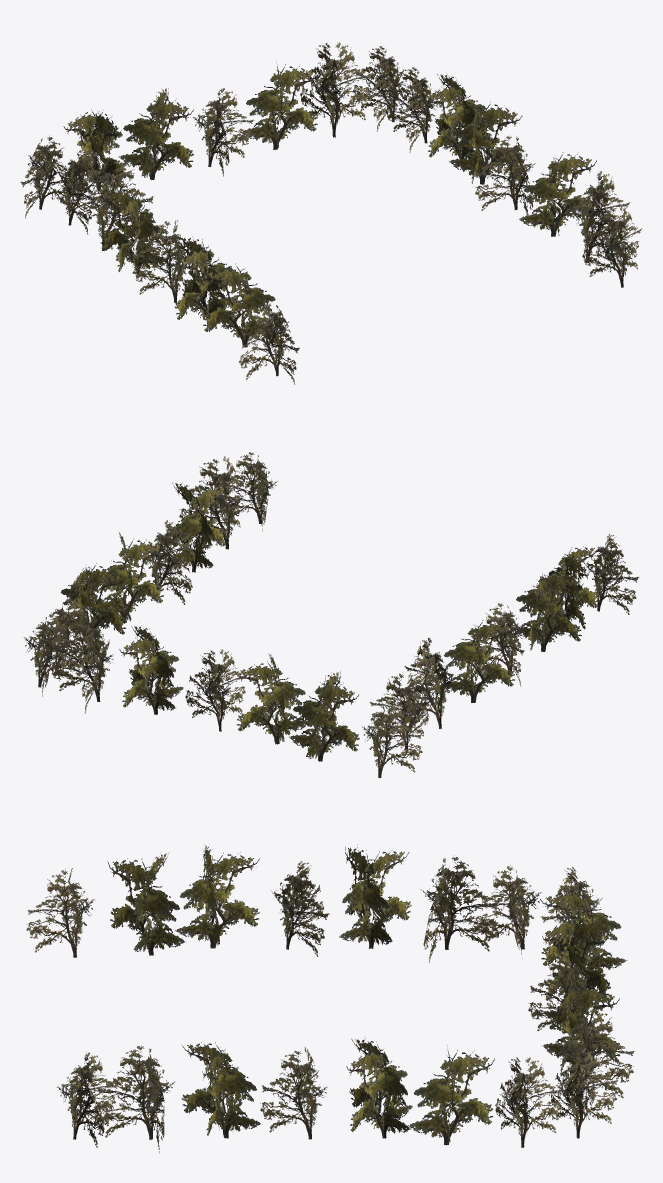
File: bushes3.glb
The picture shows the model from 3 angles, top to bottom: view 1: azimuth 30°, elevation 25°; view 2: azimuth 150°, elevation 25°; view 3: azimuth 270°, elevation 25°; orthographic projection. The views are drawn at different scales.
Visible parts, largest first — view 1: Trees_004_Tree_01_0, Trees_004_Tree_0, Trees_Tree_0, Trees_002_Tree_01_0, Trees_002_Tree_0, Trees_Tree_01_0; view 2: Trees_004_Tree_0, Trees_004_Tree_01_0, Trees_002_Tree_0, Trees_Tree_0, Trees_Tree_01_0, Trees_002_Tree_01_0; view 3: Trees_Tree_0, Trees_002_Tree_0, Trees_002_Tree_01_0, Trees_Tree_01_0, Trees_004_Tree_01_0, Trees_004_Tree_0.
Boxes of the visible parts, x1,y1,x2,y2 form: Trees_004_Tree_01_0: (20, 42, 404, 218); Trees_004_Tree_0: (63, 61, 319, 191); Trees_Tree_0: (98, 187, 277, 347); Trees_002_Tree_01_0: (385, 67, 642, 287); Trees_002_Tree_0: (425, 74, 596, 236); Trees_Tree_01_0: (58, 149, 299, 384); Trees_004_Tree_0: (119, 625, 359, 761); Trees_004_Tree_01_0: (24, 612, 422, 777); Trees_002_Tree_0: (60, 482, 228, 643); Trees_Tree_0: (441, 546, 599, 702); Trees_Tree_01_0: (369, 534, 639, 749); Trees_002_Tree_01_0: (40, 452, 277, 681); Trees_Tree_0: (107, 844, 411, 955); Trees_002_Tree_0: (181, 1036, 494, 1145); Trees_002_Tree_01_0: (57, 1045, 563, 1153); Trees_Tree_01_0: (26, 855, 541, 962); Trees_004_Tree_01_0: (528, 867, 635, 1138); Trees_004_Tree_0: (540, 881, 627, 1071).
Bounding box in the file's own units: 61.57 × 13.77 × 66.5.
2 materials, 2 textured.
